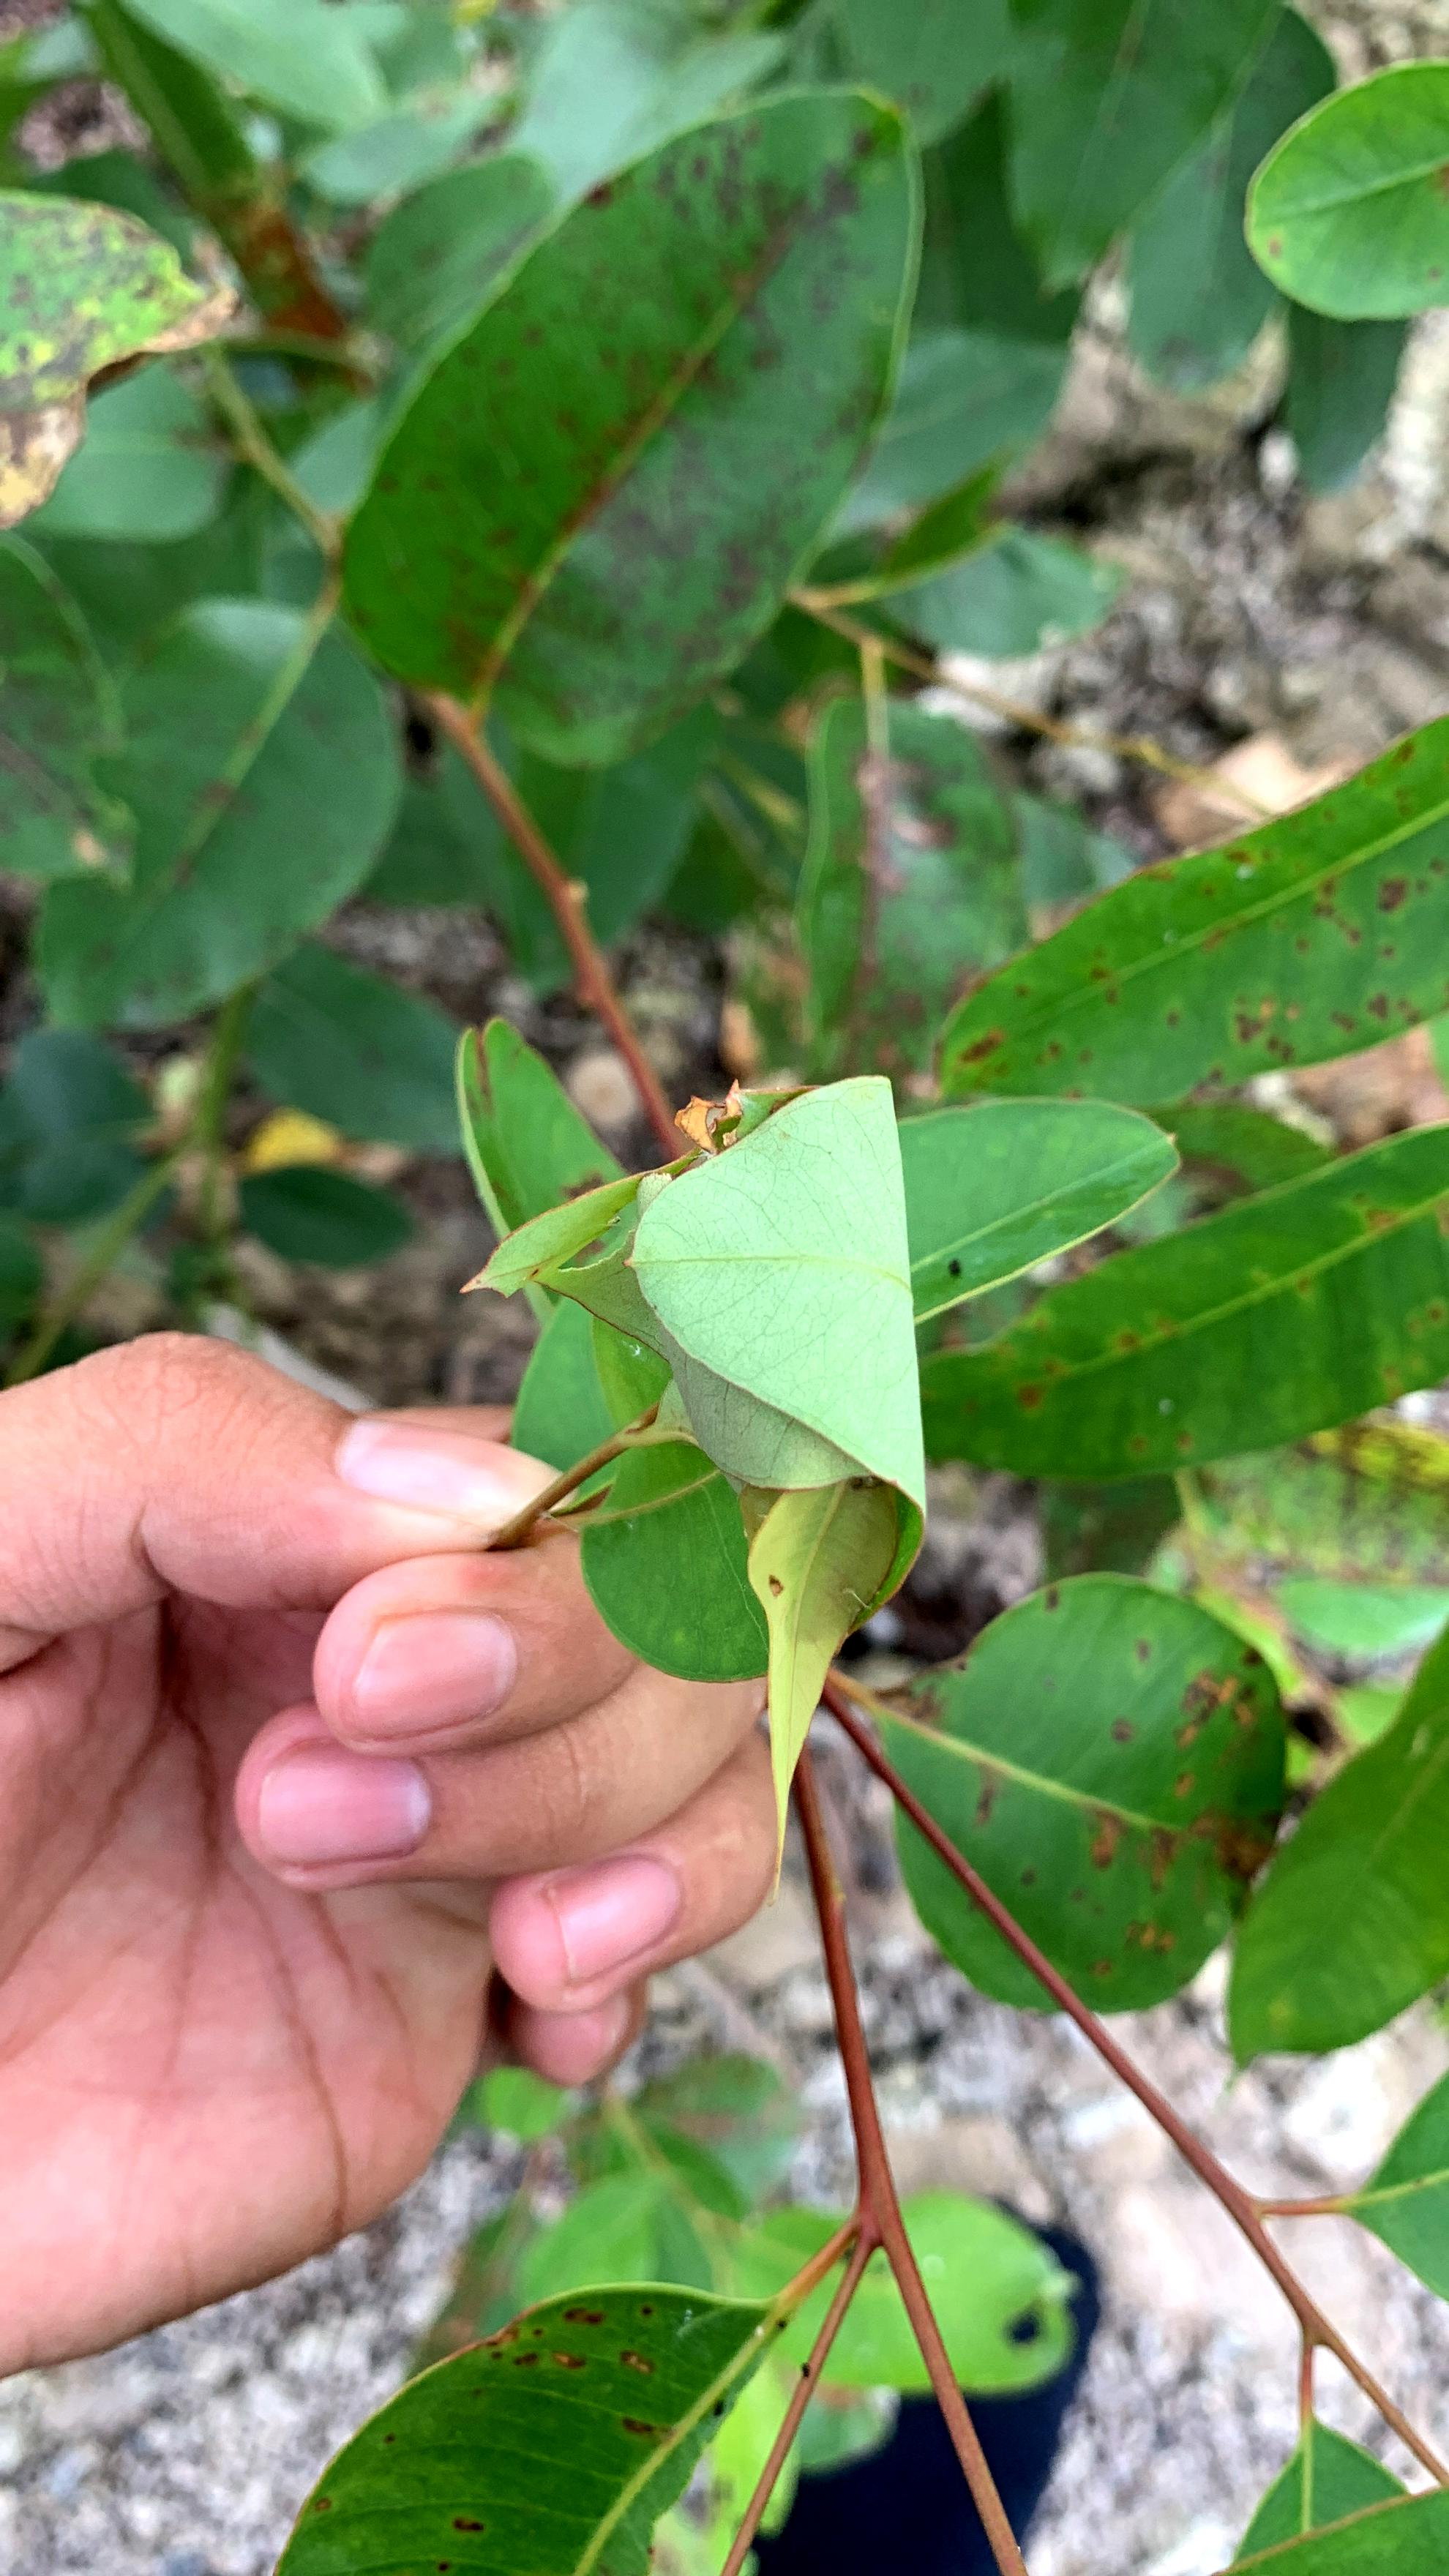Leaf Roller - Leaf: (389, 1004, 980, 1881)
